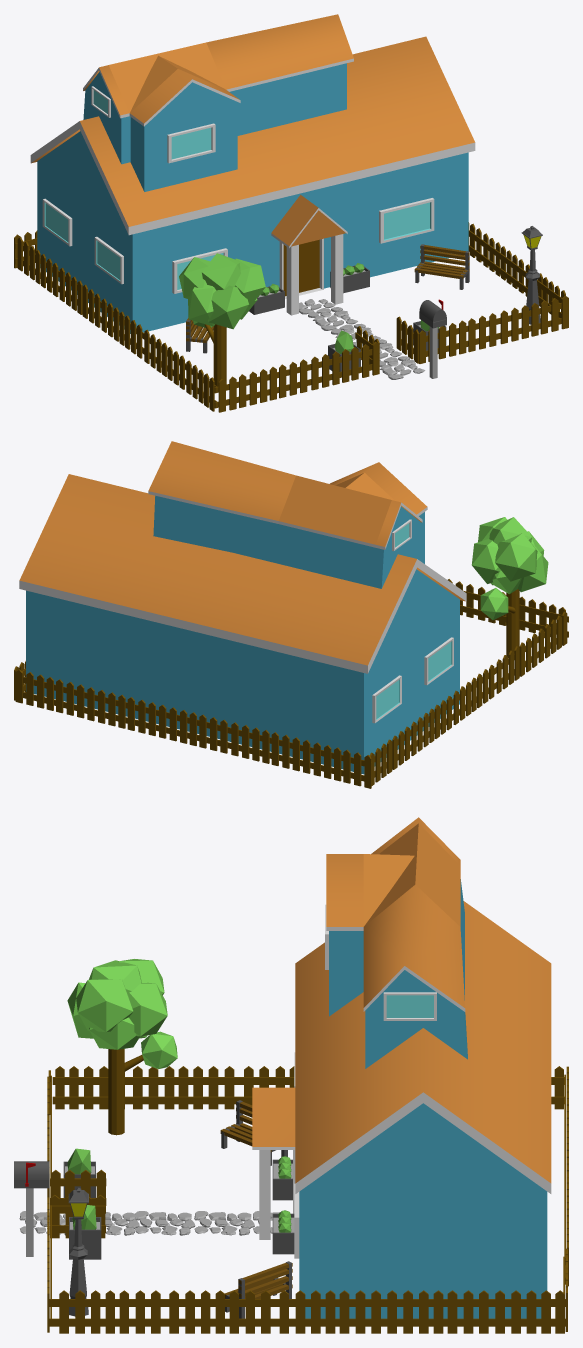
The model's file is eee15.fbx.
3 views of the same model, one above another, from view 1: azimuth 30°, elevation 25°; view 2: azimuth 150°, elevation 25°; view 3: azimuth 270°, elevation 25° (orthographic). The views are drawn at different scales.
Parts seen in each view (by area): view 1: eee15; view 2: eee15; view 3: eee15.
Part boxes in pixels (x1=…): eee15: x1=14, y1=14, x2=568, y2=412; eee15: x1=14, y1=441, x2=568, y2=788; eee15: x1=14, y1=817, x2=568, y2=1333.
Bounding box in the file's own units: 25.08 × 16.54 × 25.97.
